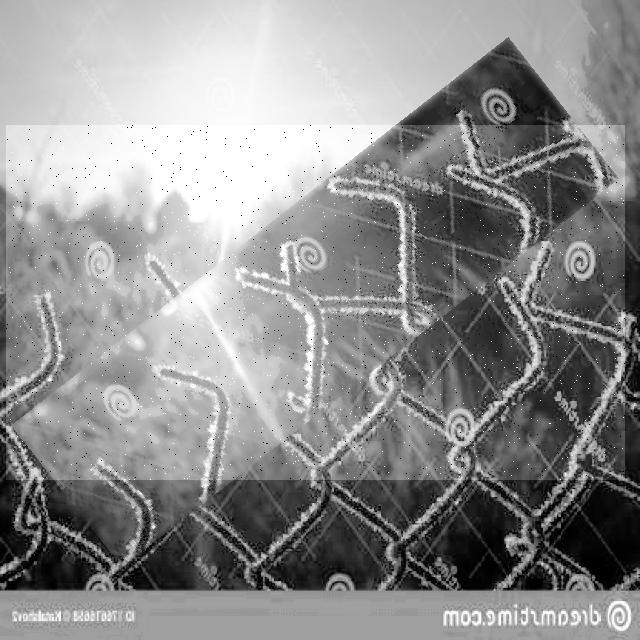anomaly-fence: (6, 125, 625, 480)
